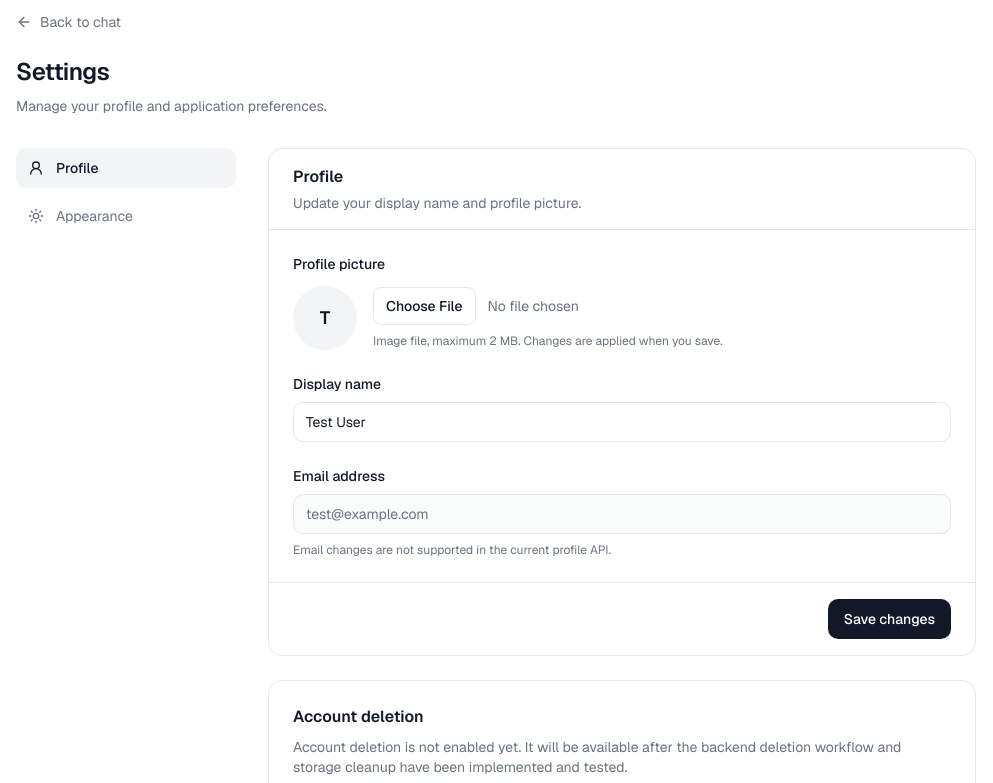
Test: SettingsPage › displays error message if update profile API fails
The image size is (993, 783).
expect the field showing "Test User" is shown: met, box [293,402,951,442]
Click the button "Save changes" at (889,619), box [828,599,951,639]
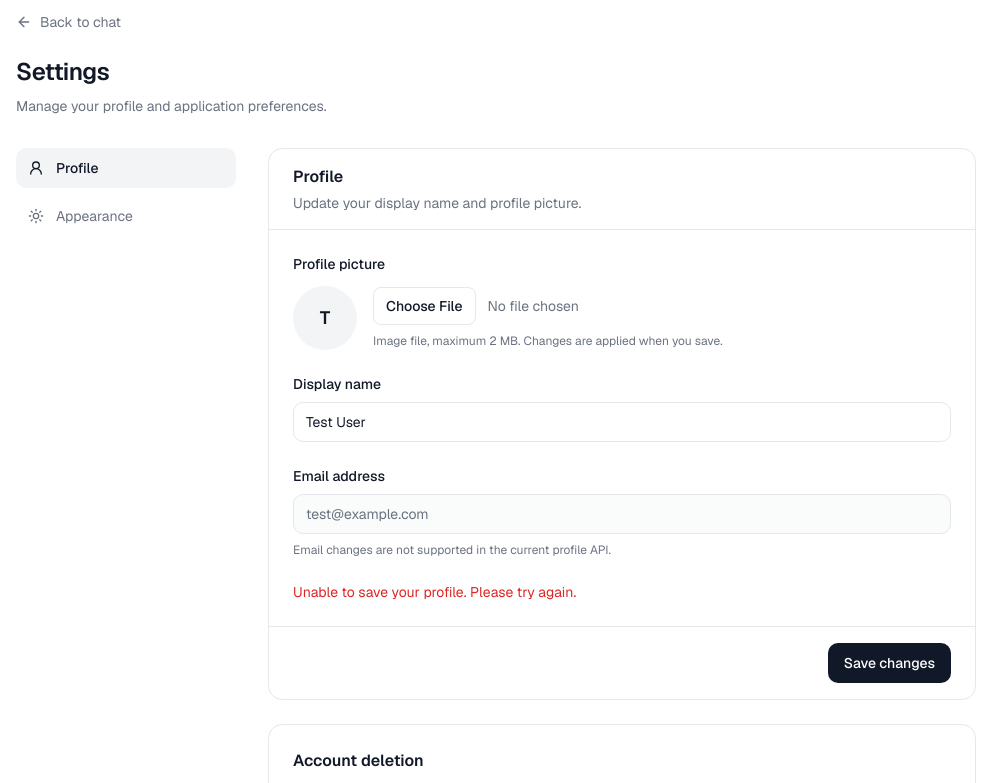
expect the message reads "Unable to save your profile. Please try again.": met, box [293,583,576,601]
